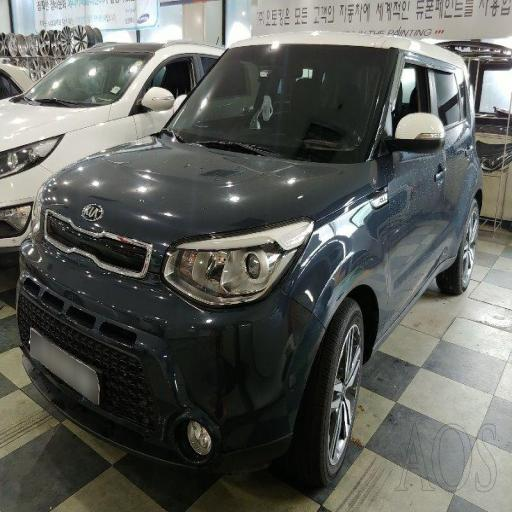normal: (28, 38, 483, 470)
